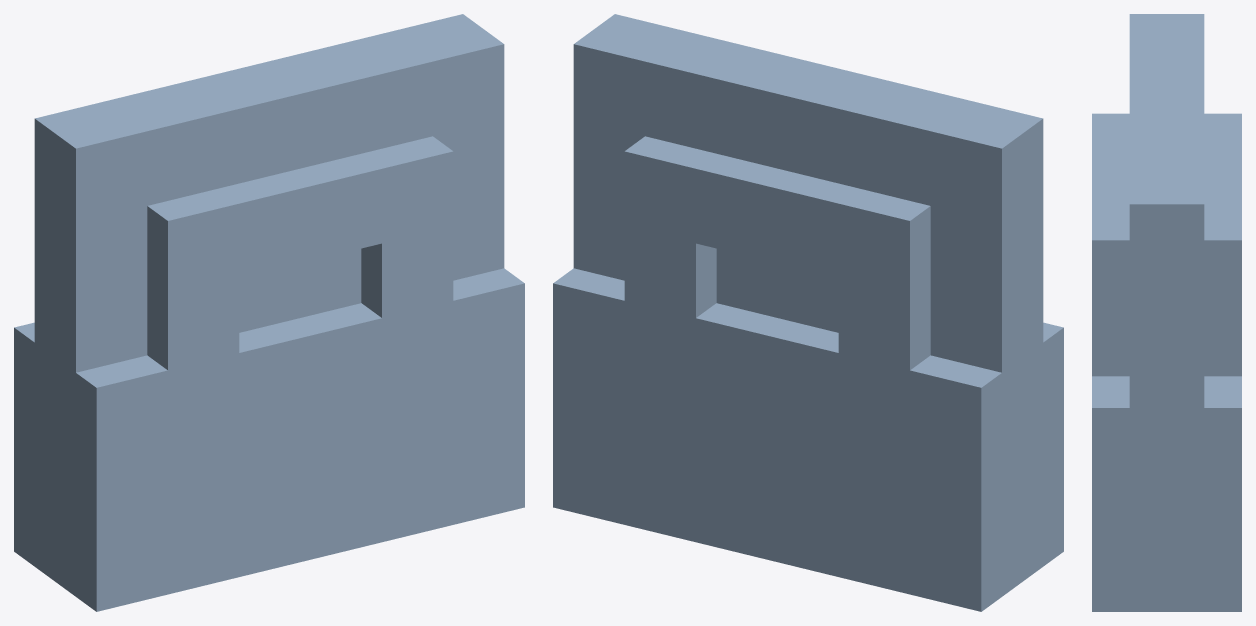
Rendered from plumpBody.glb.
3 renders of one model, left to right at view 1: azimuth 30°, elevation 25°; view 2: azimuth 150°, elevation 25°; view 3: azimuth 270°, elevation 25°, orthographic. The views are drawn at different scales.
Parts seen in each view (by area): view 1: generated(Clone); view 2: generated(Clone); view 3: generated(Clone).
Boxes of the visible parts, box(x1,y1,x2,y2) form: generated(Clone): box(14, 14, 524, 611); generated(Clone): box(553, 14, 1063, 611); generated(Clone): box(1092, 14, 1241, 611).
Bounding box in the file's own units: 6 × 6 × 2.
